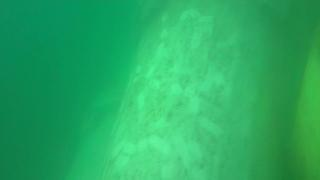pipe: (95, 1, 272, 179), (61, 1, 139, 179), (287, 38, 320, 180)
